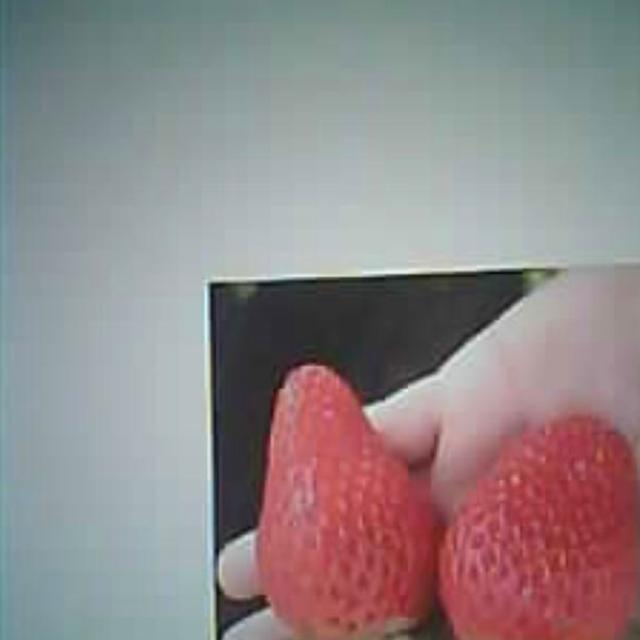Healthy Fruit: (255, 361, 437, 638), (435, 410, 638, 638)
